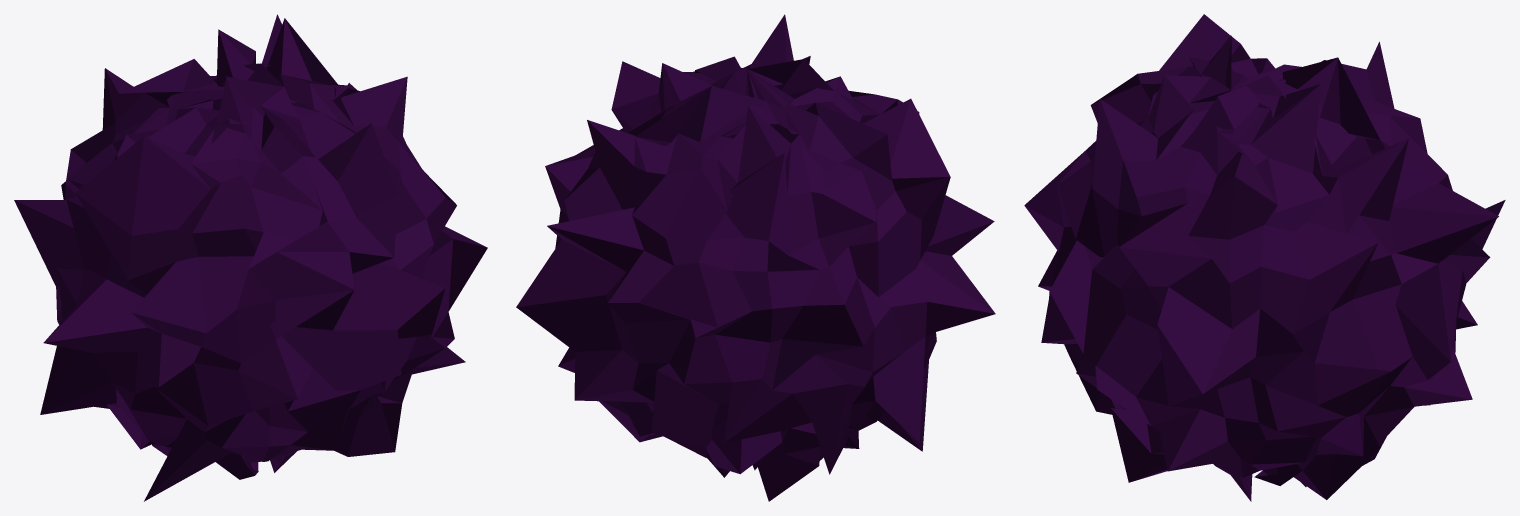
The model's file is bumpyOrb.glb.
3 views of the same model, side by side, from view 1: azimuth 30°, elevation 25°; view 2: azimuth 150°, elevation 25°; view 3: azimuth 270°, elevation 25° (orthographic). The views are drawn at different scales.
Visible parts, largest first — view 1: Icosphere; view 2: Icosphere; view 3: Icosphere.
Part boxes in pixels (left/top/right/bottom): Icosphere: left=14, top=14, right=487, bottom=501; Icosphere: left=516, top=14, right=995, bottom=501; Icosphere: left=1024, top=14, right=1505, bottom=501.
Size of the model in its own units: 2.6 by 2.39 by 2.37.
